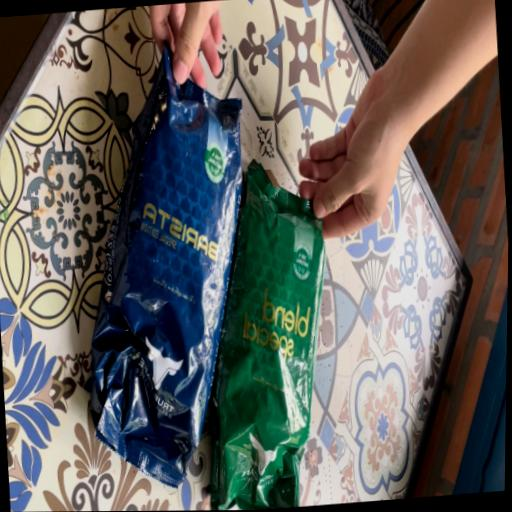cafe_hat: (90, 47, 241, 487)
cafe_xay: (210, 162, 325, 510)
